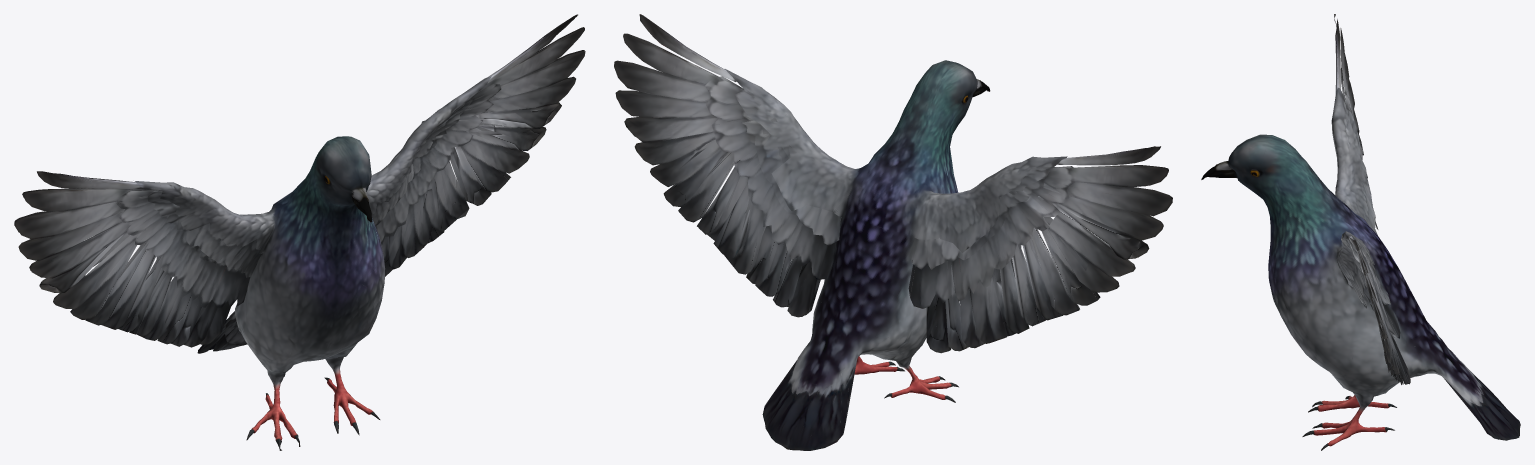
Rendered from pigeon.glb.
The picture shows the model from 3 angles, left to right: view 1: azimuth 30°, elevation 25°; view 2: azimuth 150°, elevation 25°; view 3: azimuth 270°, elevation 25°; orthographic projection. The views are drawn at different scales.
Visible parts, largest first — view 1: geometry_0; view 2: geometry_0; view 3: geometry_0.
Boxes of the visible parts, <box> form: geometry_0: <box>14,14,585,450</box>; geometry_0: <box>614,14,1172,450</box>; geometry_0: <box>1201,14,1520,450</box>.
Bounding box in the file's own units: 0.9575 × 0.5332 × 0.5049.
Materials: 1 (1 with a texture image).
